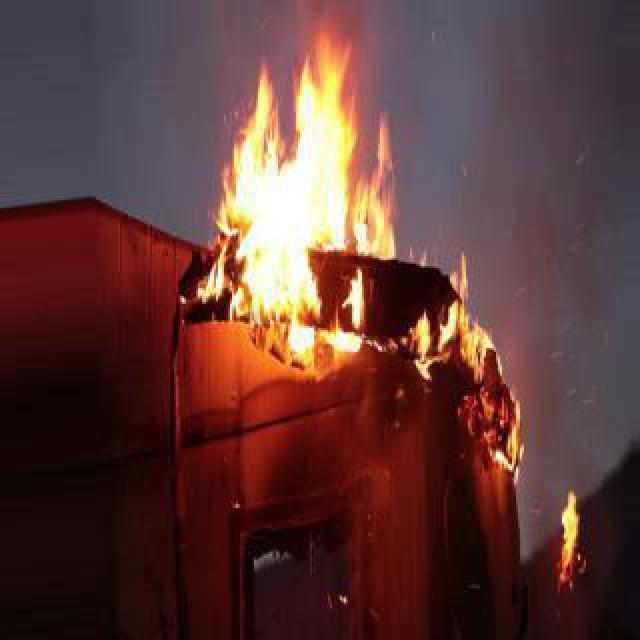Fire: (196, 30, 398, 358), (408, 232, 494, 372), (552, 476, 588, 596), (490, 384, 530, 478)
